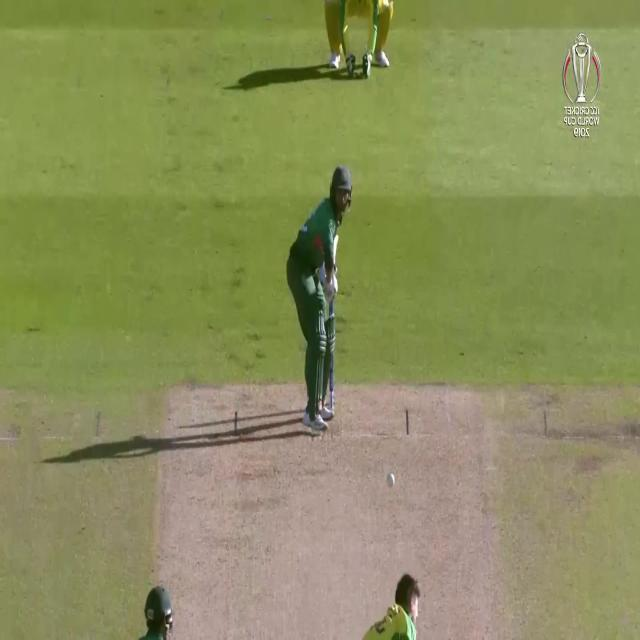ball: (382, 470, 398, 492)
